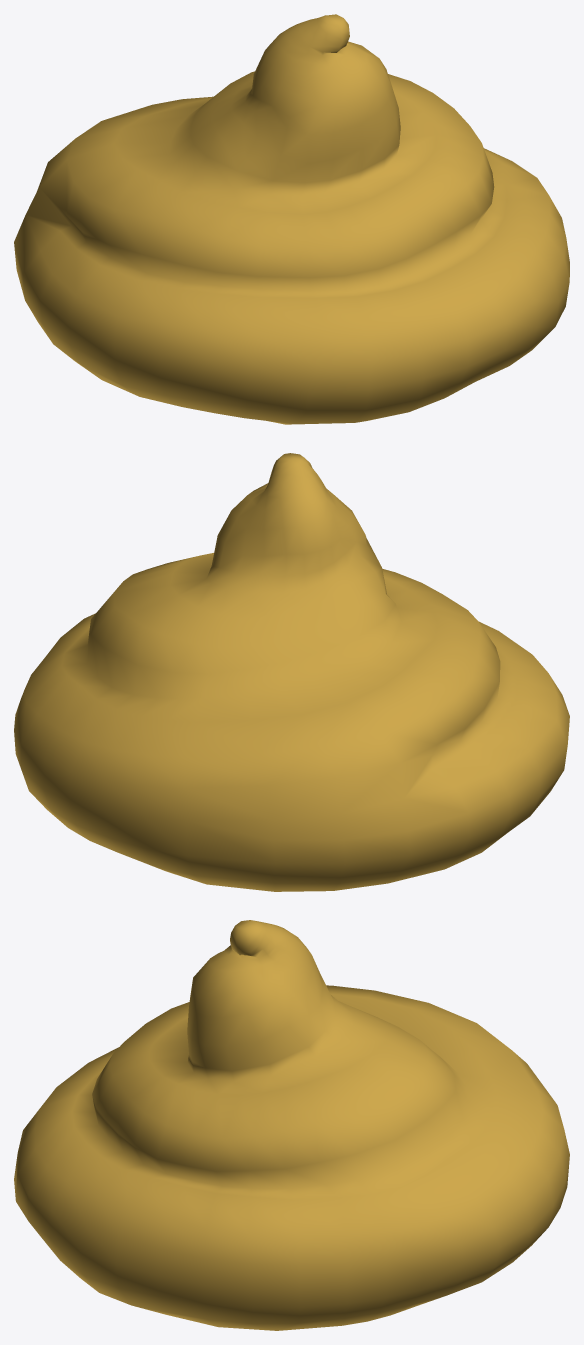
The picture shows the model from 3 angles, top to bottom: view 1: azimuth 30°, elevation 25°; view 2: azimuth 150°, elevation 25°; view 3: azimuth 270°, elevation 25°; orthographic projection.
Visible parts, largest first — view 1: Plane_0; view 2: Plane_0; view 3: Plane_0.
Boxes of the visible parts, left/top/right/bottom form: Plane_0: left=14, top=14, right=569, bottom=424; Plane_0: left=14, top=453, right=569, bottom=891; Plane_0: left=14, top=920, right=569, bottom=1330.
Bounding box in the file's own units: 0.1381 × 0.0937 × 0.1407.
